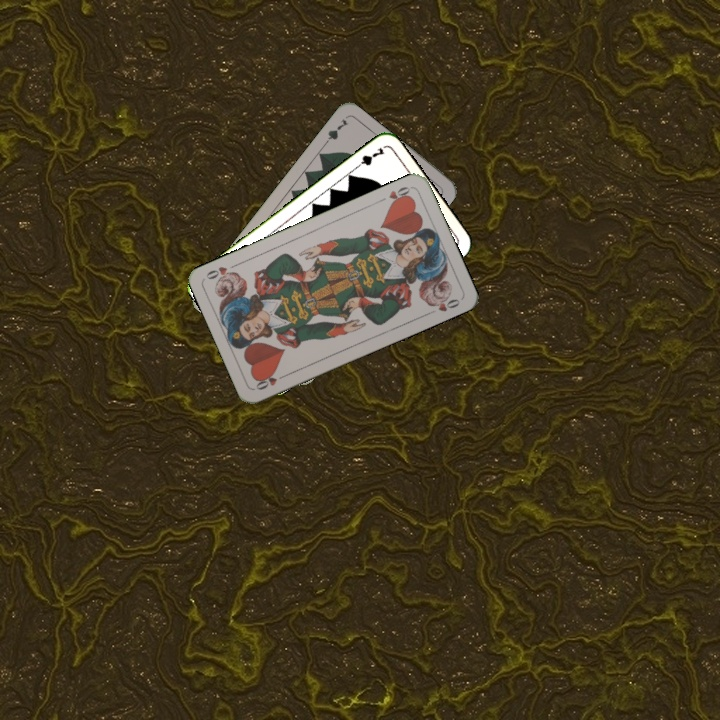G7: (319, 115, 351, 149), (350, 143, 387, 172)
HO: (375, 182, 414, 208), (251, 370, 290, 393)
